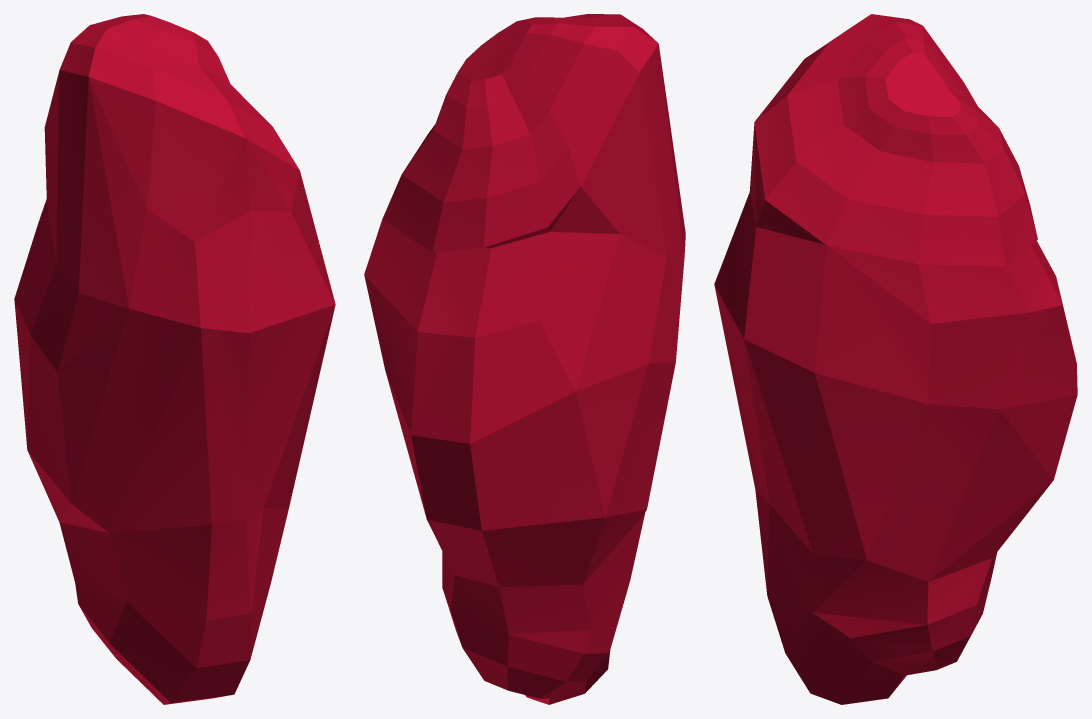
Rendered from left_thigh.fbx.
The picture shows the model from 3 angles, left to right: view 1: azimuth 30°, elevation 25°; view 2: azimuth 150°, elevation 25°; view 3: azimuth 270°, elevation 25°; orthographic projection. The views are drawn at different scales.
Parts seen in each view (by area): view 1: left_thigh; view 2: left_thigh; view 3: left_thigh.
Part boxes in pixels (box(x1,y1,x2,y2)): left_thigh: box(14, 14, 335, 704); left_thigh: box(364, 14, 685, 704); left_thigh: box(714, 14, 1077, 704).
Bounding box in the file's own units: 0.2095 × 0.5496 × 0.2802.
